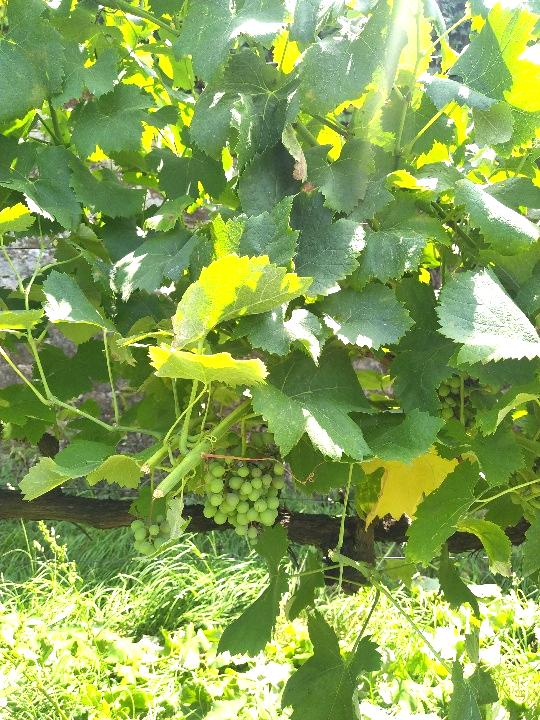grape: (203, 429, 287, 547)
